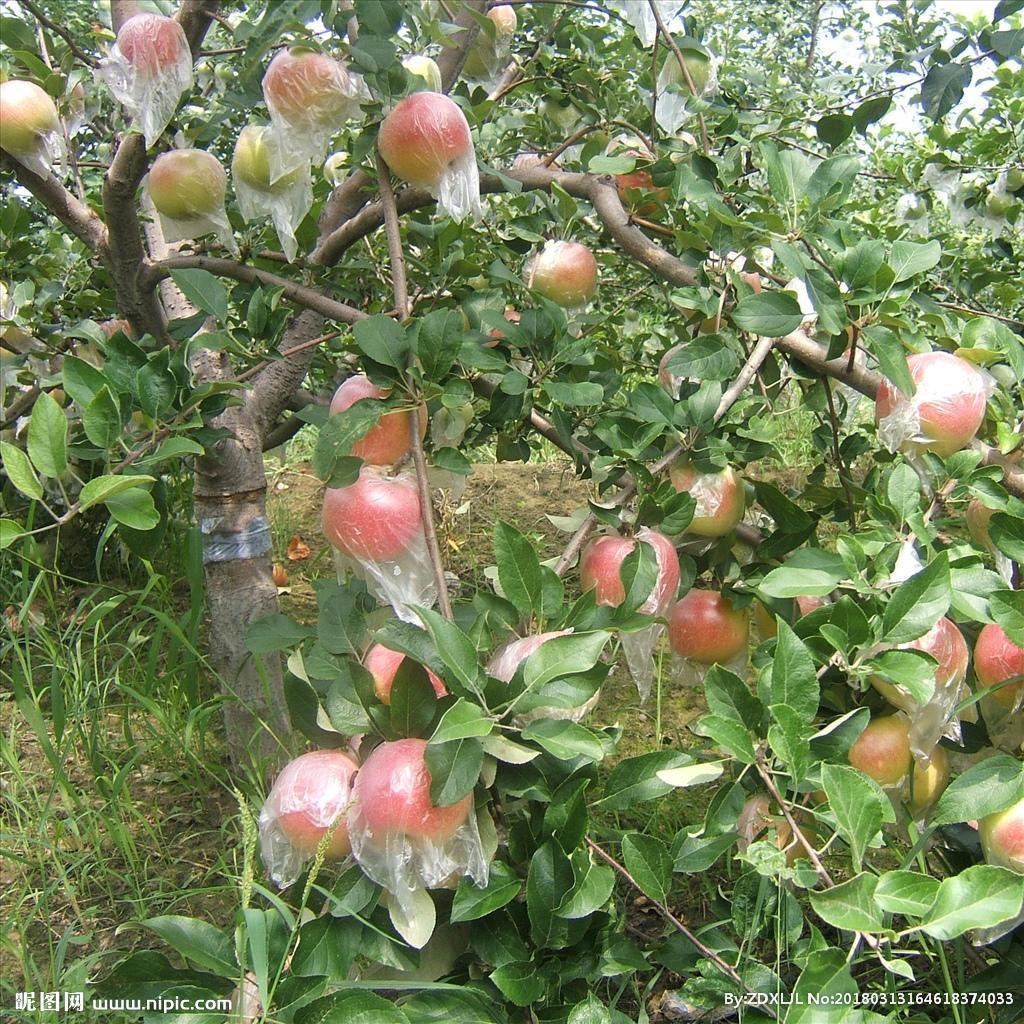apple: (347, 738, 472, 879), (263, 745, 362, 870), (321, 468, 426, 561), (848, 714, 946, 810), (372, 89, 472, 180), (897, 353, 987, 453), (582, 530, 679, 619), (325, 377, 428, 456), (265, 49, 354, 126), (668, 458, 749, 539), (143, 145, 227, 223), (667, 591, 742, 667), (235, 125, 312, 197), (522, 239, 599, 310), (115, 12, 185, 81), (1, 81, 56, 152), (972, 623, 1023, 691), (980, 800, 1024, 874)
